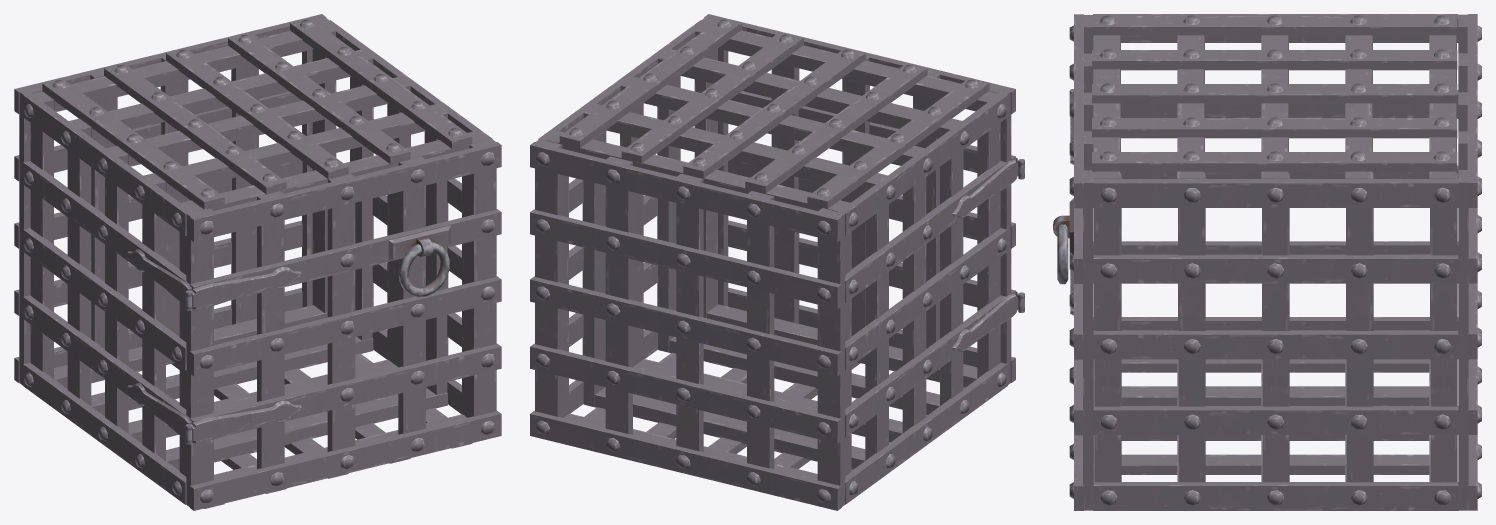
The model's file is Cage_Small.gltf.
3 views of the same model, side by side, from view 1: azimuth 30°, elevation 25°; view 2: azimuth 150°, elevation 25°; view 3: azimuth 270°, elevation 25° (orthographic). The views are drawn at different scales.
Parts seen in each view (by area): view 1: Cage_Small; view 2: Cage_Small; view 3: Cage_Small.
Boxes of the visible parts, x1,y1,x2,y2 form: Cage_Small: (14,14,501,510); Cage_Small: (530,14,1024,510); Cage_Small: (1053,14,1481,510).
Bounding box in the file's own units: 0.8549 × 0.8052 × 0.8843.
Materials: 1 (1 with a texture image).
